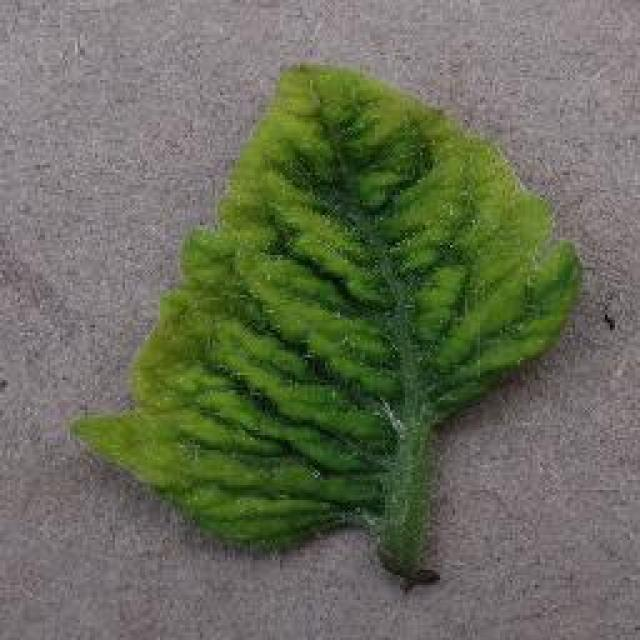Tom_Yellow_Leaf_Curl_Virus: (170, 76, 516, 490)
